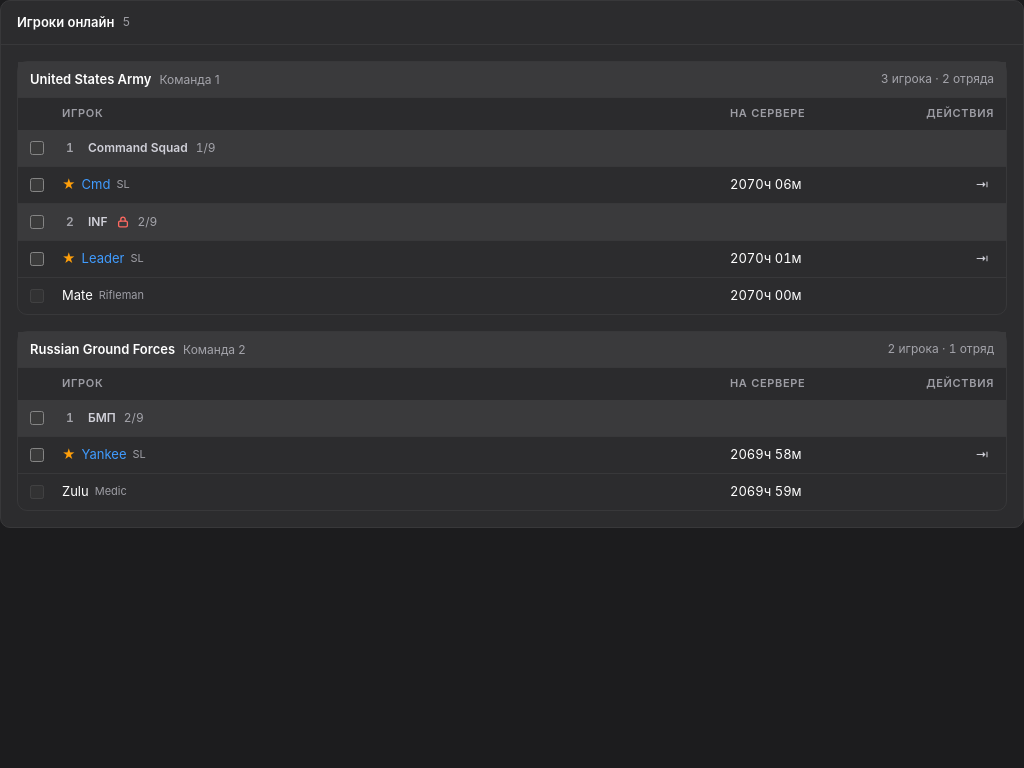
Test: LivePlayers › opens the bulk moderation modal with the selected targets
Check: the link "Leader" is shown, box [82,249,124,268]
Click the checkbox named "Выбрать игрока: Leader" next to "Leader".
click(37, 259)  # box [30,252,44,266]
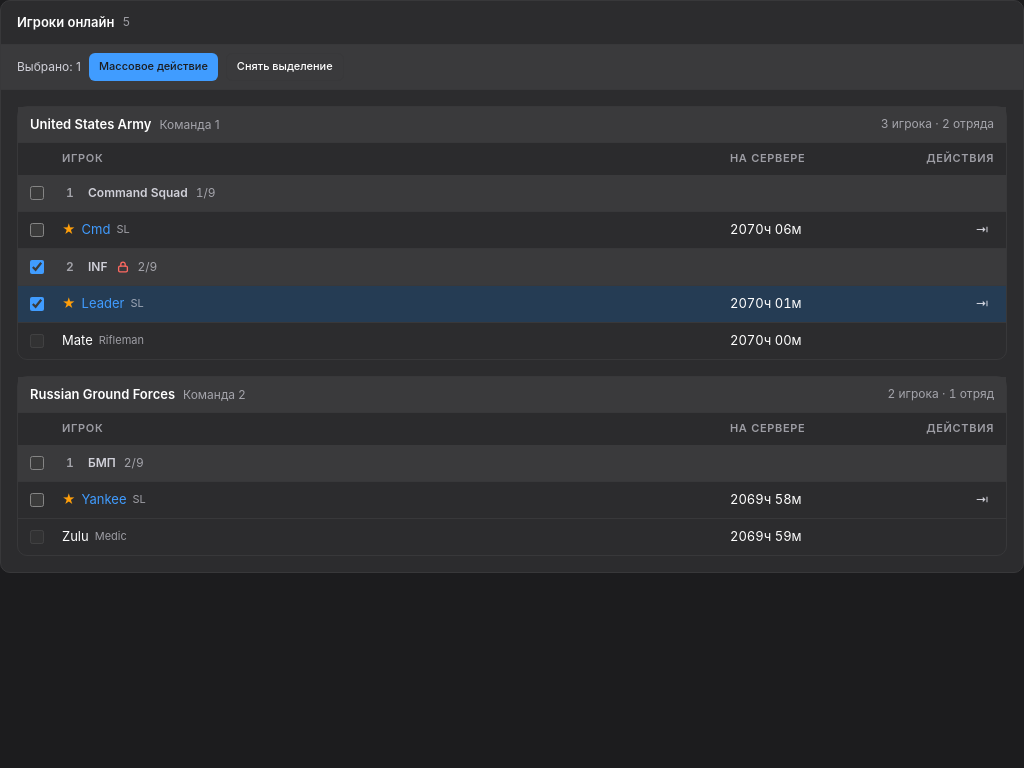
Click the button "Массовое действие".
click(153, 67)  # box [89,53,218,81]
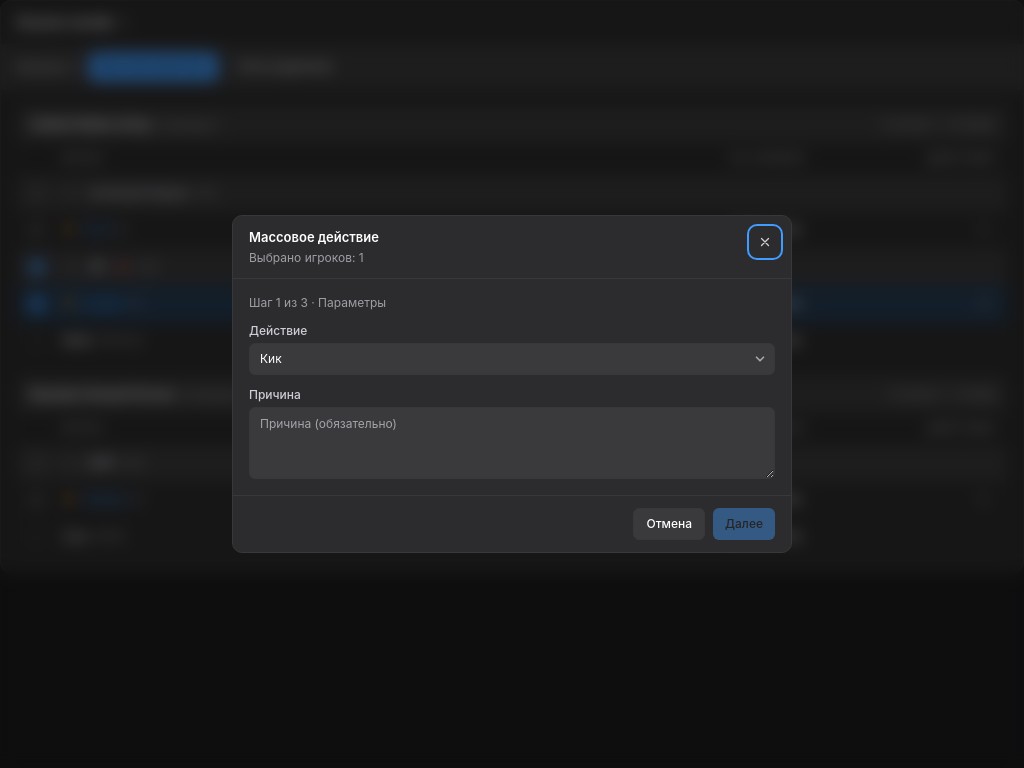
Check: the text "Выбрано игроков: 1" is shown, box [249,250,379,266]
Check: the dropdown labelled "Действие" is shown, box [249,343,775,375]
